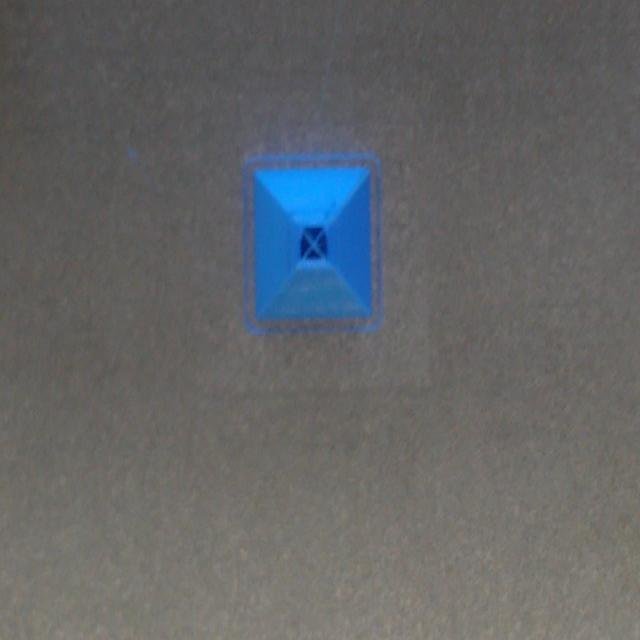mistake: (294, 217, 334, 267)
